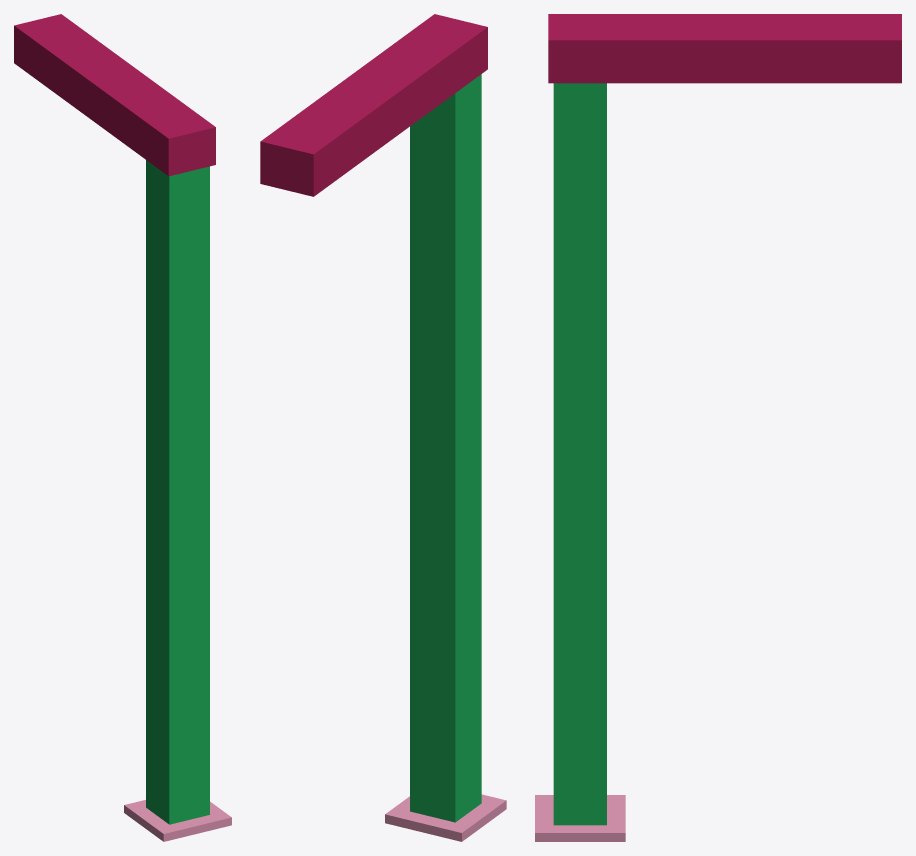
File: lamp.obj
The picture shows the model from 3 angles, left to right: view 1: azimuth 30°, elevation 25°; view 2: azimuth 150°, elevation 25°; view 3: azimuth 270°, elevation 25°; orthographic projection. The views are drawn at different scales.
Visible parts, largest first — view 1: Box001, Box002, Box003; view 2: Box001, Box002, Box003; view 3: Box001, Box002, Box003.
Part boxes in pixels (x1=…): Box001: x1=146, y1=160, x2=209, y2=824; Box002: x1=14, y1=14, x2=215, y2=176; Box003: x1=124, y1=800, x2=231, y2=841; Box001: x1=410, y1=74, x2=481, y2=822; Box002: x1=260, y1=14, x2=487, y2=196; Box003: x1=385, y1=794, x2=506, y2=841; Box001: x1=553, y1=83, x2=606, y2=825; Box002: x1=548, y1=14, x2=901, y2=83; Box003: x1=535, y1=795, x2=625, y2=841.
Size of the model in its own units: 6.7 by 65.43 by 27.33.
